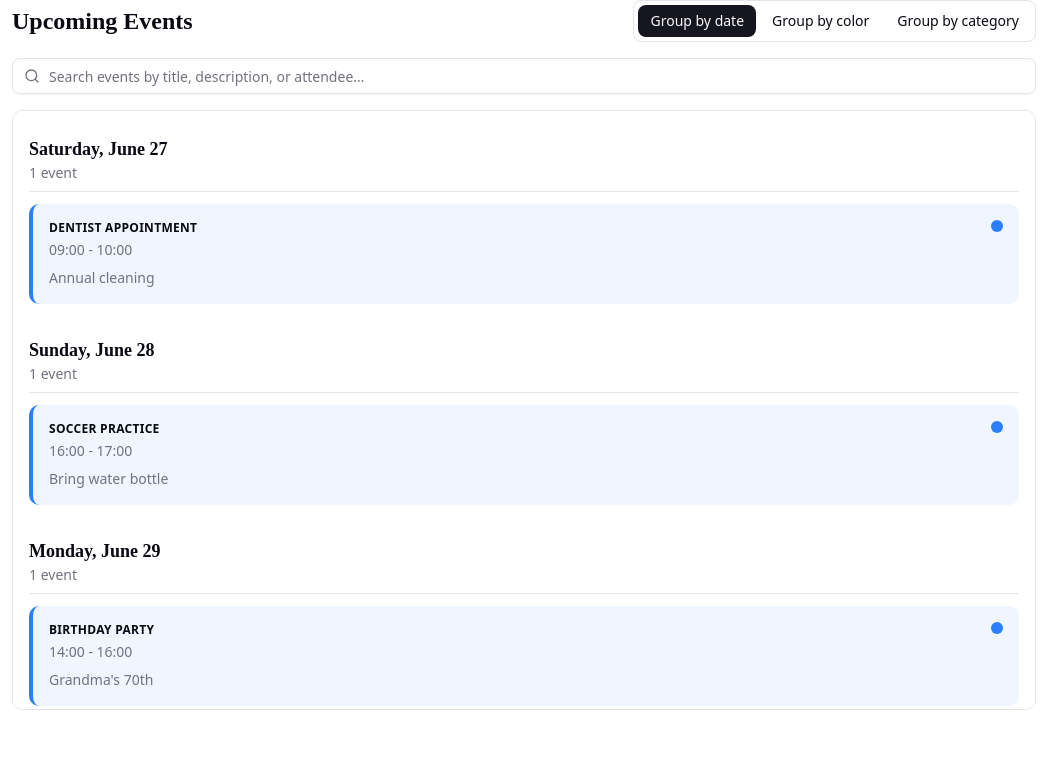
Test case: AgendaCalendar › Search › is case-insensitive and trims whitespace
Type "   DENTIST   " into the search field with placeholder "Search events by title, description, or attendee…" at [524, 76], box [12,58,1036,94]
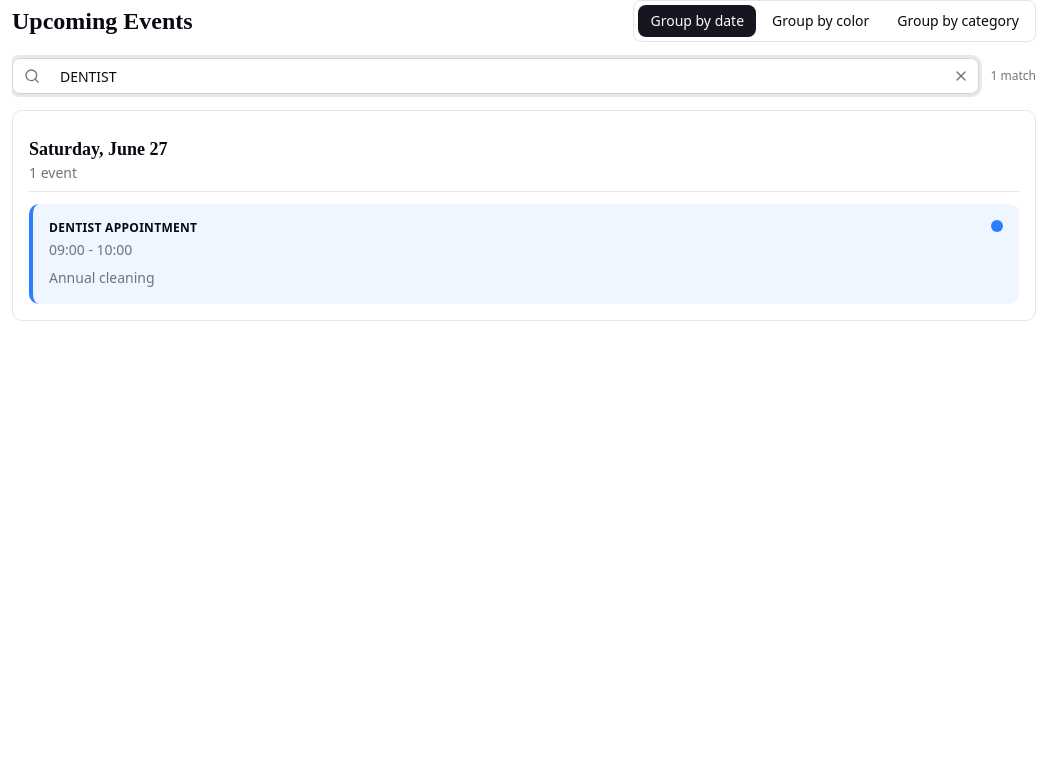
Expected: the heading "Dentist Appointment" is shown, [49,219,197,236]
Expected: the button "Soccer Practice" is gone
